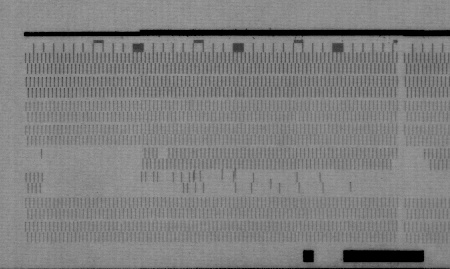Broken hole: (40, 172, 450, 202), (25, 147, 144, 172), (404, 147, 432, 172), (156, 146, 171, 161)
